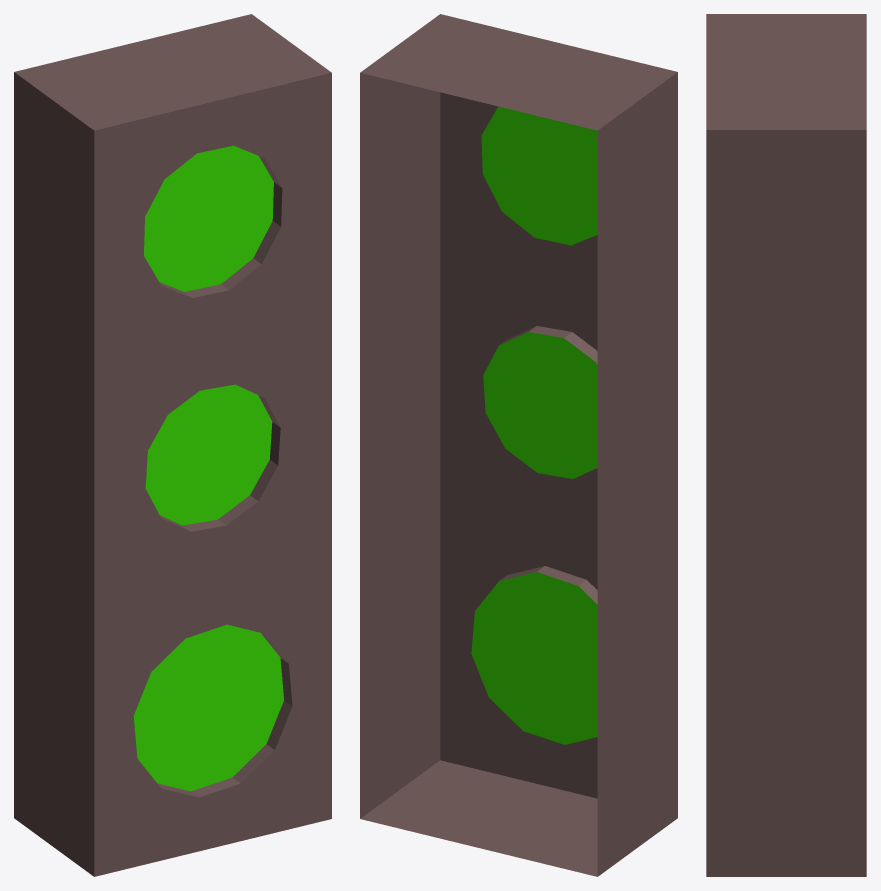
File: Semaforo.fbx
3 views of the same model, side by side, from view 1: azimuth 30°, elevation 25°; view 2: azimuth 150°, elevation 25°; view 3: azimuth 270°, elevation 25° (orthographic).
Parts seen in each view (by area): view 1: pCube5; view 2: pCube5; view 3: pCube5.
Boxes of the visible parts, left/top/right/bottom form: pCube5: left=14, top=14, right=331, bottom=876; pCube5: left=360, top=14, right=677, bottom=876; pCube5: left=706, top=14, right=866, bottom=876.
Bounding box in the file's own units: 0.00844 × 0.0253 × 0.00494.
